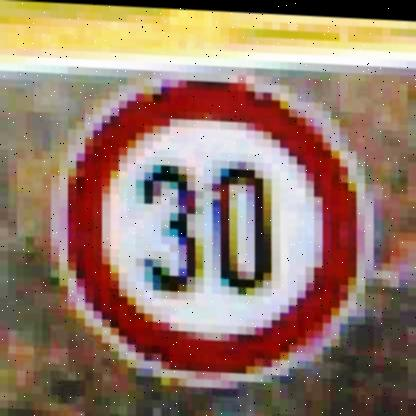Speed Limit -30-: (55, 61, 376, 393)
